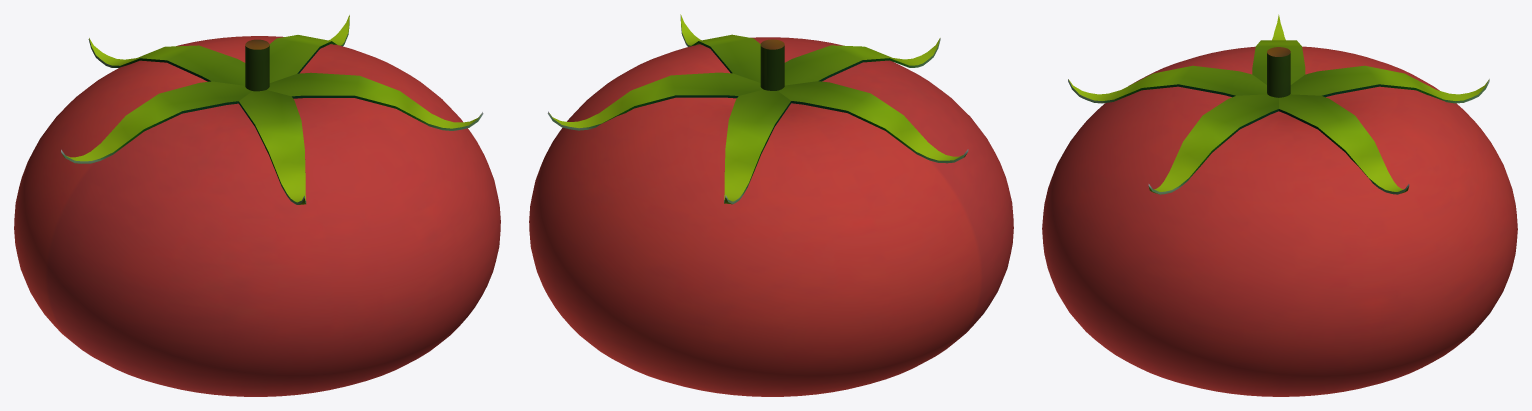
Rendered from tomaat heel We are cooked.fbx.
3 renders of one model, left to right at view 1: azimuth 30°, elevation 25°; view 2: azimuth 150°, elevation 25°; view 3: azimuth 270°, elevation 25°, orthographic. The views are drawn at different scales.
Parts seen in each view (by area): view 1: Sphere, Cube.004, Cube.003, Cube.005, Cube.002, Cube.001, Cylinder; view 2: Sphere, Cube.002, Cube.003, Cube.001, Cube.004, Cube.005, Cylinder; view 3: Sphere, Cube.005, Cube.001, Cube.002, Cube.004, Cube.003, Cylinder.
Part boxes in pixels (bbox=[...]): Sphere: bbox=[14, 36, 500, 396]; Cube.004: bbox=[238, 90, 306, 204]; Cube.003: bbox=[61, 81, 251, 163]; Cube.005: bbox=[267, 72, 483, 130]; Cube.002: bbox=[88, 38, 245, 85]; Cube.001: bbox=[269, 15, 349, 82]; Cylinder: bbox=[245, 39, 269, 91]; Sphere: bbox=[529, 37, 1013, 396]; Cube.002: bbox=[724, 89, 791, 204]; Cube.003: bbox=[778, 81, 968, 163]; Cube.001: bbox=[547, 72, 763, 130]; Cube.004: bbox=[784, 38, 940, 85]; Cube.005: bbox=[680, 14, 760, 82]; Cylinder: bbox=[760, 39, 784, 90]; Sphere: bbox=[1042, 46, 1517, 396]; Cube.005: bbox=[1148, 94, 1278, 194]; Cube.001: bbox=[1279, 94, 1409, 194]; Cube.002: bbox=[1290, 65, 1489, 103]; Cube.004: bbox=[1068, 65, 1267, 103]; Cube.003: bbox=[1252, 14, 1305, 84]; Cylinder: bbox=[1267, 47, 1290, 97].
Size of the model in its own units: 200 by 133 by 200.
